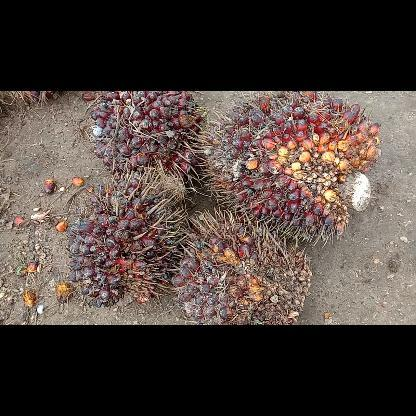TBS masak: (192, 90, 380, 246), (65, 170, 186, 306), (172, 208, 310, 324), (91, 92, 204, 180)
